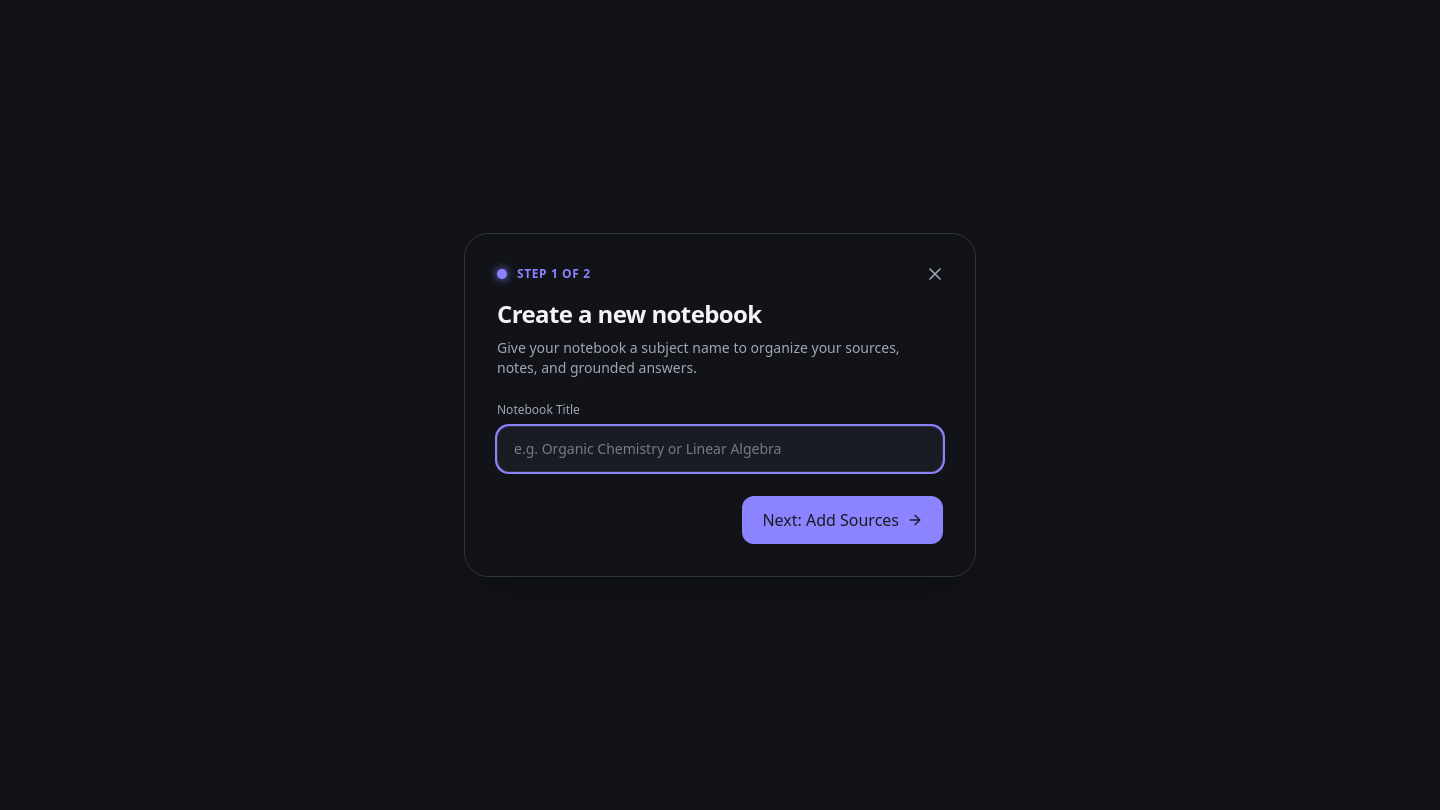
Test: Phase 3: Material 3 Auth Modal & Guided Onboarding Flow › test_onboarding_flow_path_b_zero_notebooks_guided_wizard
Later steps or results of the test are not shown.
Check: the field with test id "onboarding-notebook-title-input" is shown, box top-left (497, 426), bottom-right (943, 472)
Click the button with test id "onboarding-notebook-submit-btn" at (843, 520), box top-left (742, 496), bottom-right (943, 544)
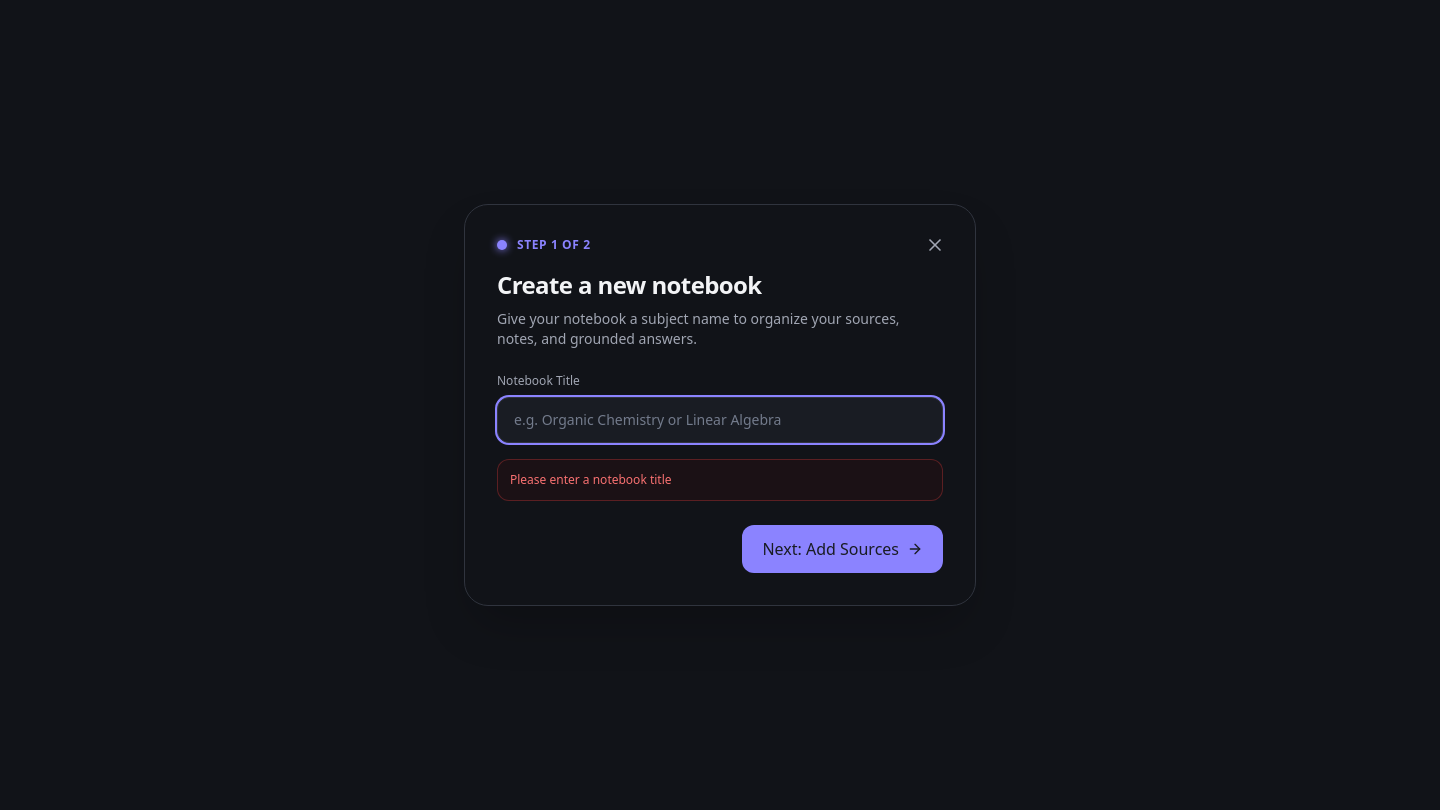
Check: the message "Please enter a notebook title" is shown, box top-left (497, 459), bottom-right (943, 501)
Type "Quantum Computing 101" into the field with test id "onboarding-notebook-title-input" at (720, 420), box top-left (497, 397), bottom-right (943, 443)
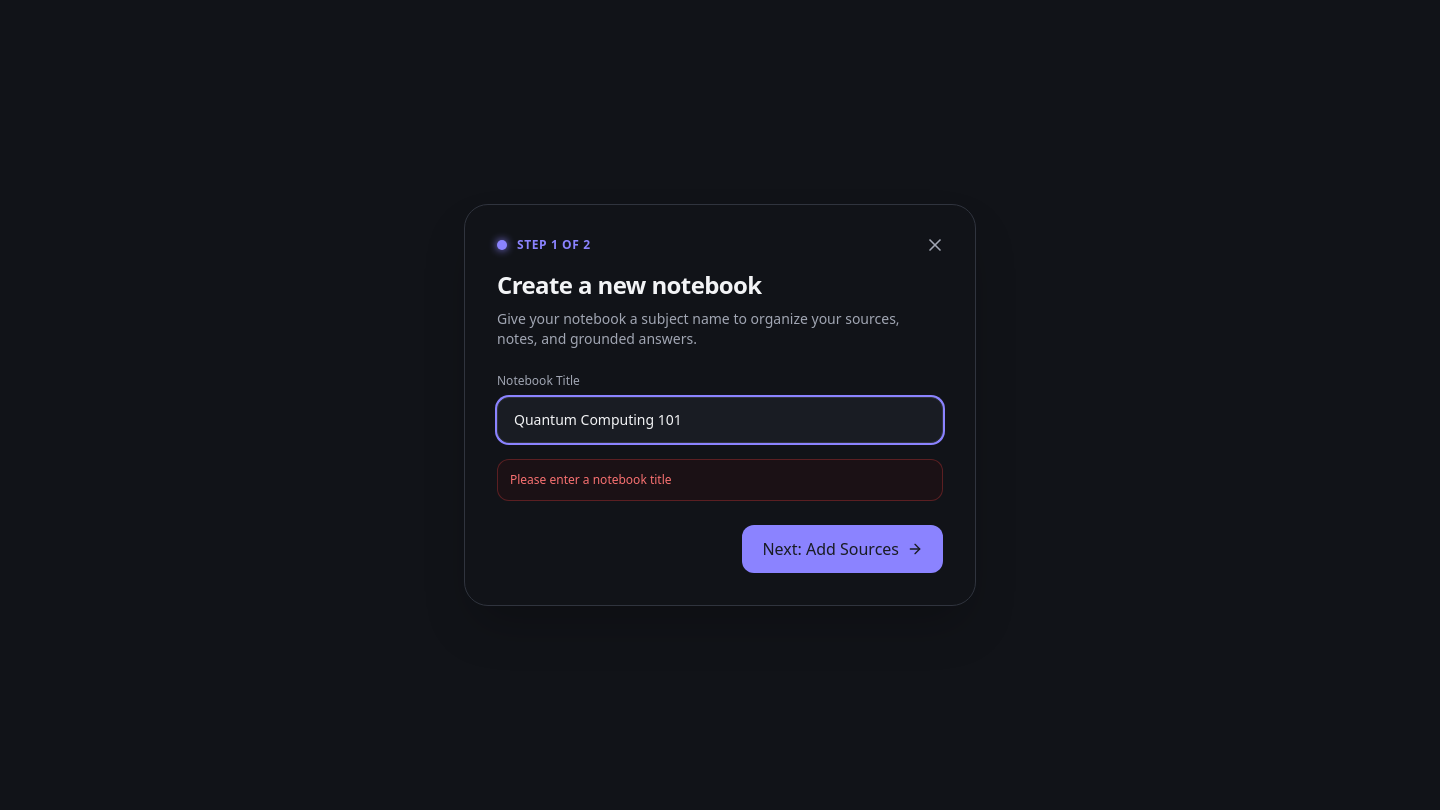
Click the button with test id "onboarding-notebook-submit-btn" at (843, 549), box top-left (742, 525), bottom-right (943, 573)
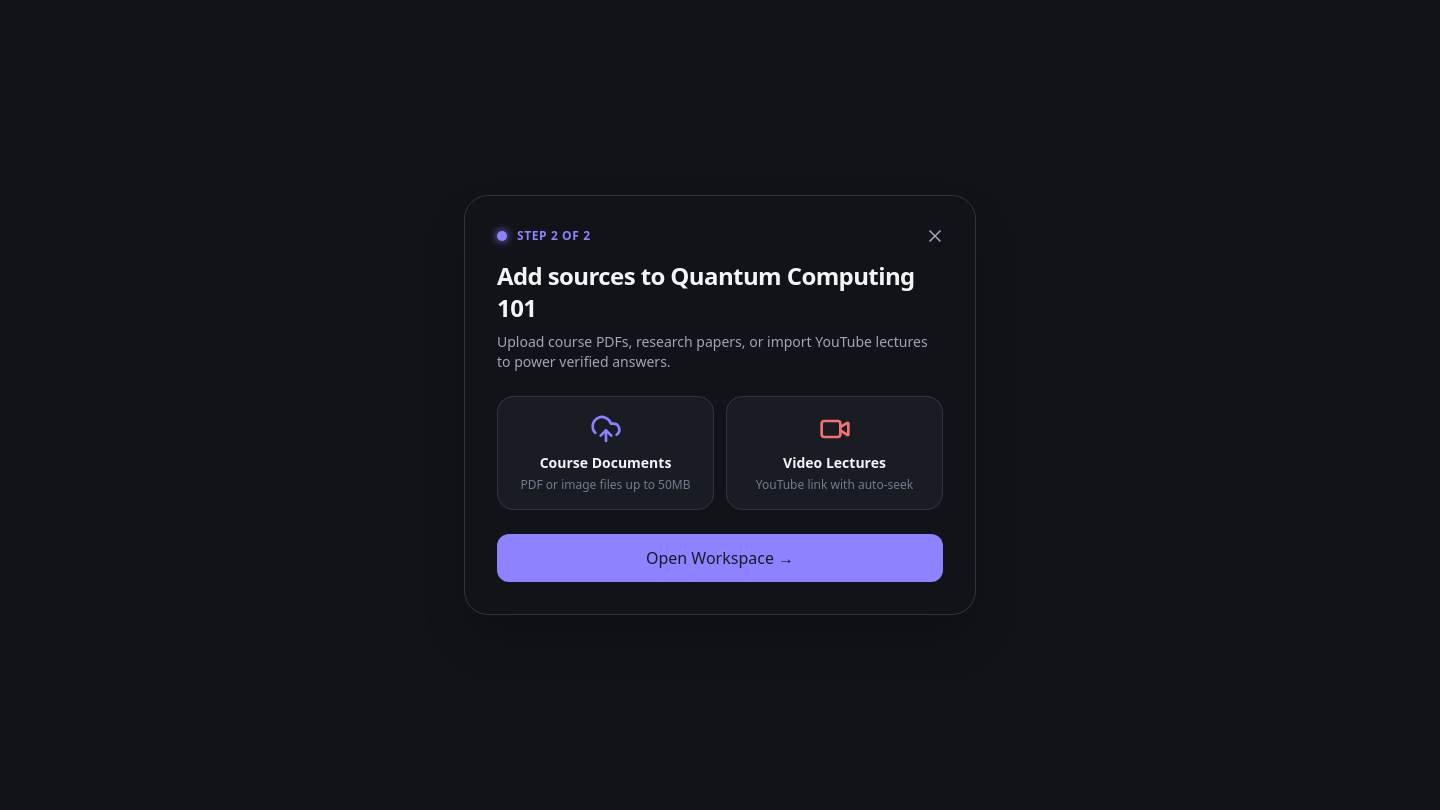
Check: the button with test id "onboarding-finish-btn" is shown, box top-left (497, 534), bottom-right (943, 582)
